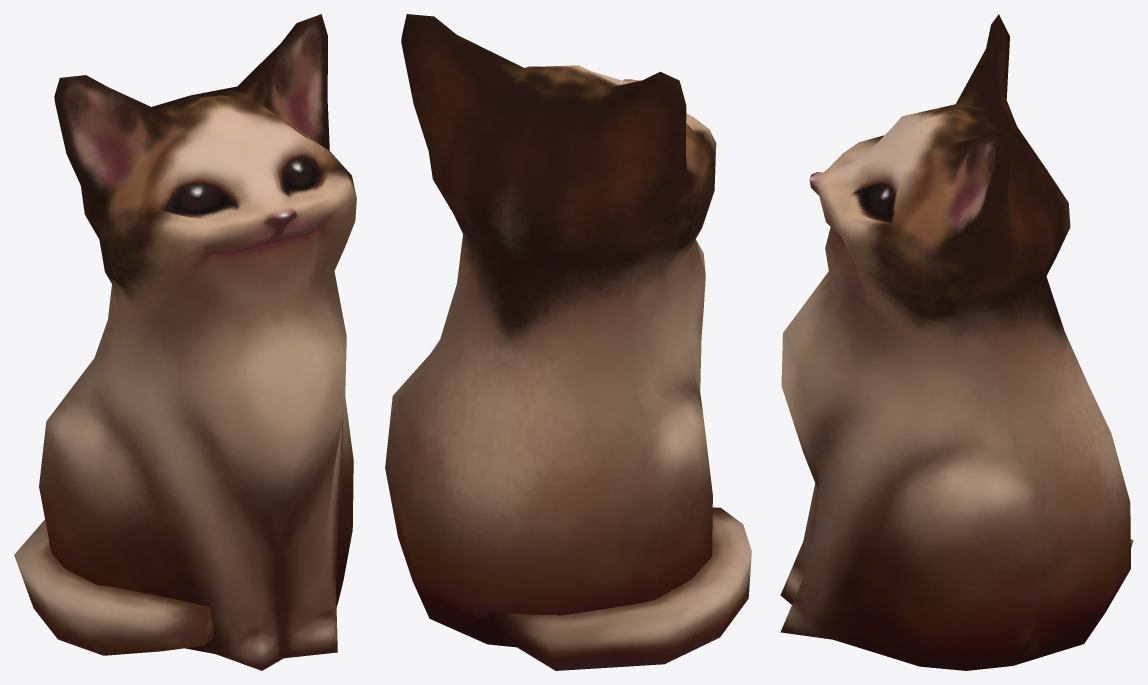
Rendered from pop cat.gltf.
3 views of the same model, side by side, from view 1: azimuth 30°, elevation 25°; view 2: azimuth 150°, elevation 25°; view 3: azimuth 270°, elevation 25° (orthographic). The views are drawn at different scales.
Parts seen in each view (by area): view 1: cat_6, tail_1; view 2: cat_6, tail_1; view 3: cat_6.
Boxes of the visible parts, left/top/right/bottom form: cat_6: left=39, top=14, right=356, bottom=670; tail_1: left=14, top=519, right=214, bottom=655; cat_6: left=385, top=14, right=716, bottom=647; tail_1: left=488, top=507, right=751, bottom=670; cat_6: left=780, top=14, right=1130, bottom=670.
Bounding box in the file's own units: 0.7581 × 1.3 × 0.7643.
Materials: 1 (1 with a texture image).
